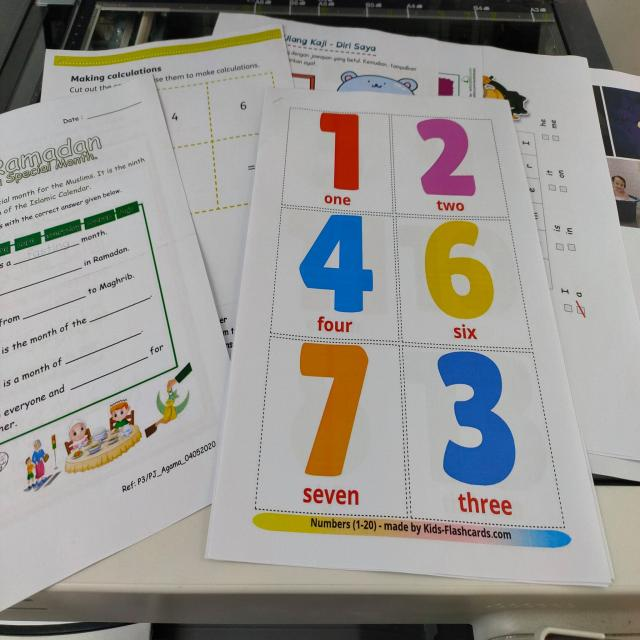paper: (214, 39, 640, 593), (0, 29, 300, 619)
